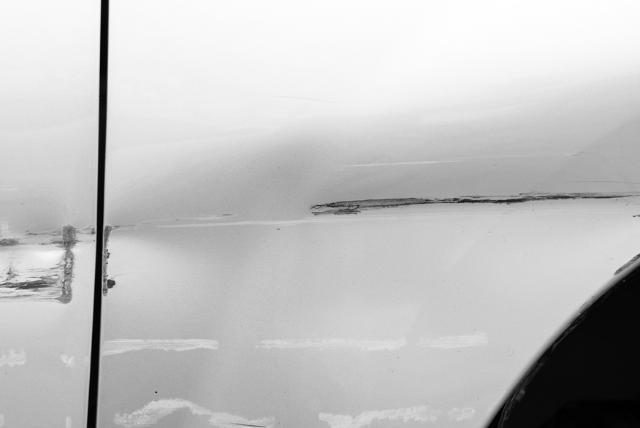Door: (0, 205, 105, 315)
Fender: (103, 137, 630, 307)
